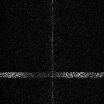wifi: (1, 72, 104, 77)
